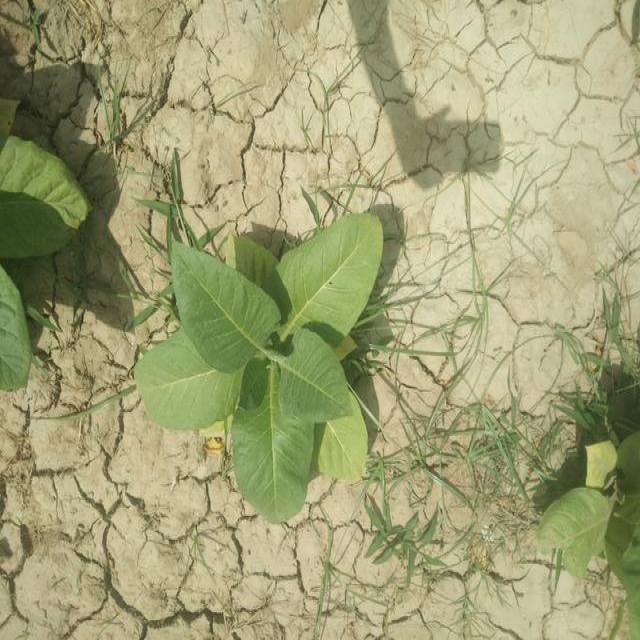crop: (117, 183, 370, 512)
